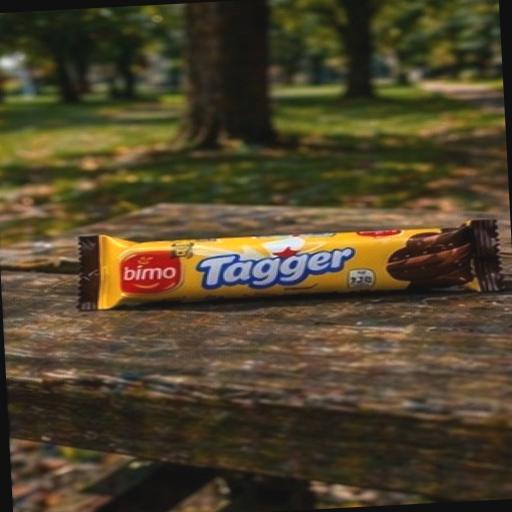tagger: (39, 163, 512, 380)
